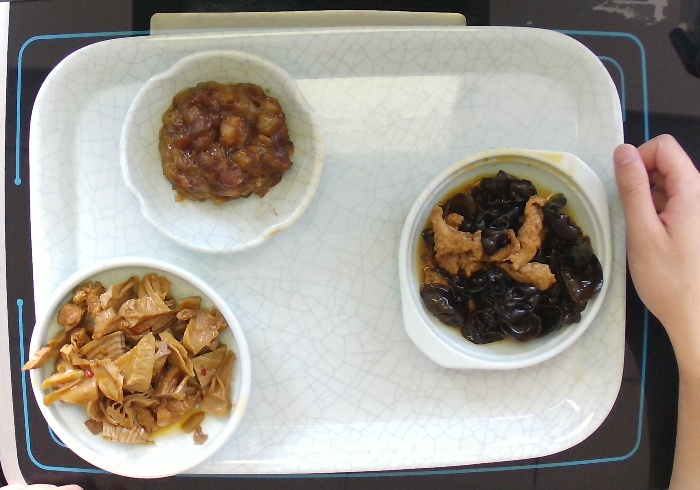JYsf-Ao_Yuan_Wan: (117, 42, 327, 255)
JYsf-Shuang_Er_Pan: (390, 140, 616, 376)
JYsf-Xiao_Yuan_Pan: (22, 255, 260, 485)
